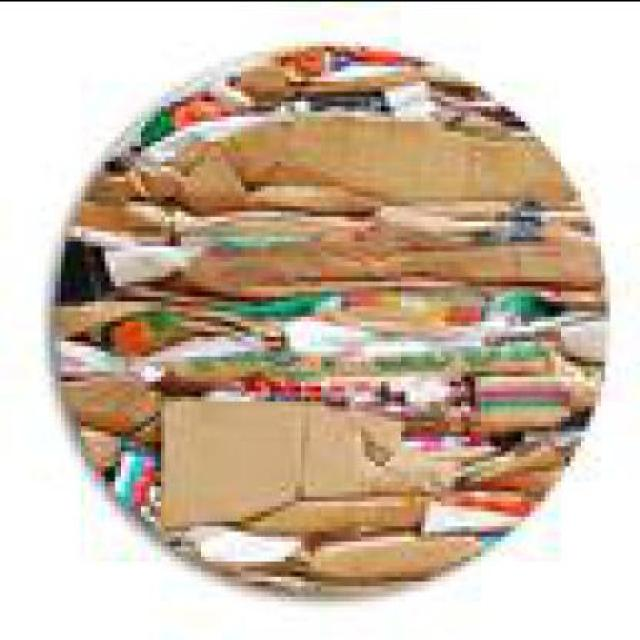CARDBOARD: (60, 285, 605, 390), (180, 196, 611, 284), (240, 110, 591, 210), (165, 386, 410, 526), (290, 60, 530, 115), (414, 375, 594, 430), (75, 195, 190, 280), (96, 134, 256, 194), (420, 430, 580, 485), (295, 525, 490, 570), (144, 69, 264, 140), (260, 485, 435, 530), (70, 365, 165, 440), (90, 419, 165, 510), (425, 475, 540, 530), (280, 40, 431, 75), (184, 520, 296, 565), (60, 229, 125, 300), (230, 566, 410, 586), (240, 55, 305, 100)
